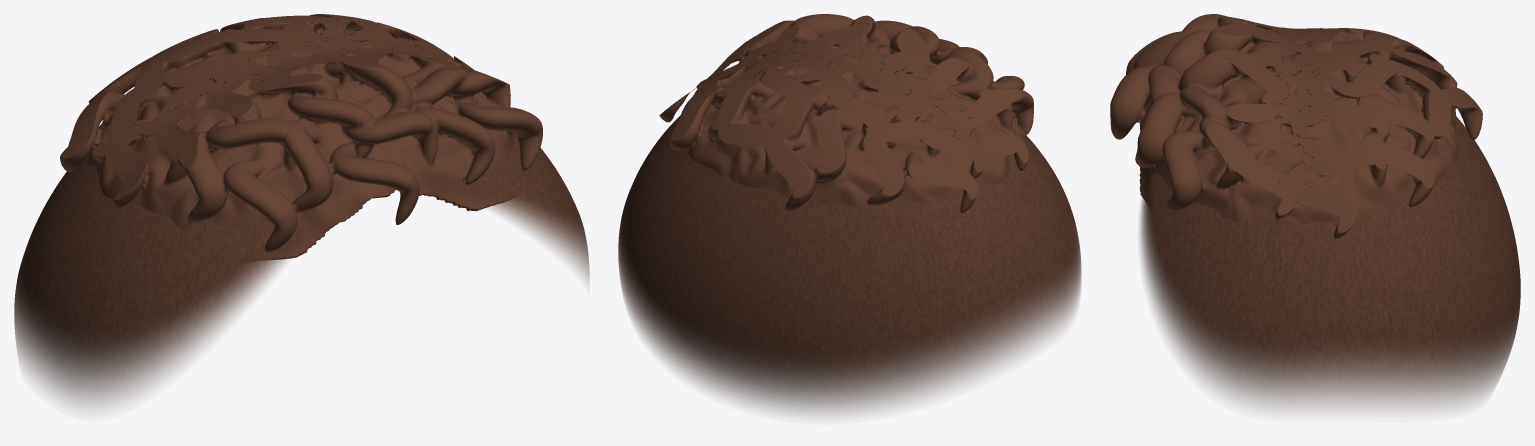
Rendered from Masculine-curly-top-pashmina252-hair.glb.
3 renders of one model, left to right at view 1: azimuth 30°, elevation 25°; view 2: azimuth 150°, elevation 25°; view 3: azimuth 270°, elevation 25°, orthographic. The views are drawn at different scales.
Parts seen in each view (by area): view 1: 226 hair / Hair252 / sculpted curl groups.001, 226 hair / Hair252 / curly close fade coverage.001; view 2: 226 hair / Hair252 / curly close fade coverage.001, 226 hair / Hair252 / sculpted curl groups.001; view 3: 226 hair / Hair252 / curly close fade coverage.001, 226 hair / Hair252 / sculpted curl groups.001.
Boxes of the visible parts, bbox=[...] form: 226 hair / Hair252 / sculpted curl groups.001: bbox=[60, 14, 542, 260]; 226 hair / Hair252 / curly close fade coverage.001: bbox=[14, 137, 589, 406]; 226 hair / Hair252 / curly close fade coverage.001: bbox=[618, 115, 1081, 414]; 226 hair / Hair252 / sculpted curl groups.001: bbox=[659, 14, 1033, 213]; 226 hair / Hair252 / curly close fade coverage.001: bbox=[1140, 116, 1520, 409]; 226 hair / Hair252 / sculpted curl groups.001: bbox=[1110, 14, 1482, 238].
Size of the model in its own units: 0.976 by 0.697 by 0.762.
2 materials, 1 textured.
